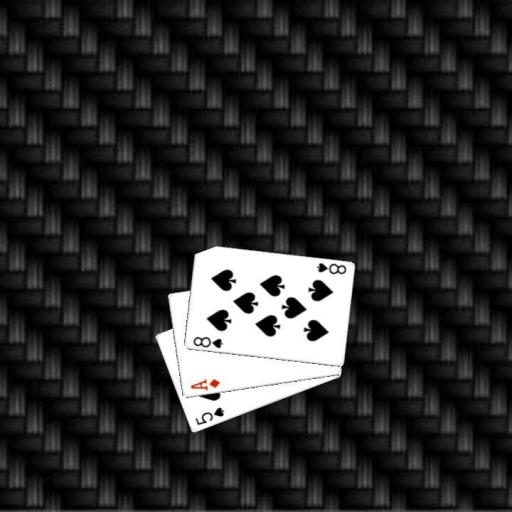5S: (192, 404, 225, 427)
8S: (190, 333, 224, 350), (314, 259, 347, 276)
AD: (187, 376, 221, 392)
